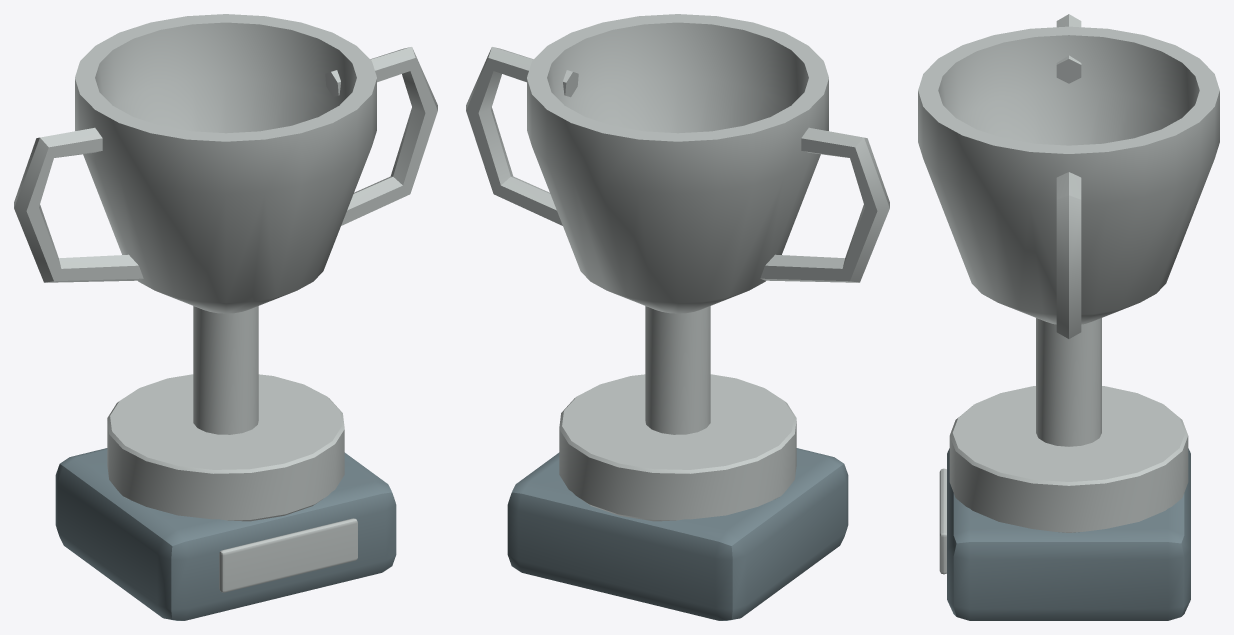
File: trophy.glb
The picture shows the model from 3 angles, left to right: view 1: azimuth 30°, elevation 25°; view 2: azimuth 150°, elevation 25°; view 3: azimuth 270°, elevation 25°; orthographic projection.
Visible parts, largest first — view 1: cup, plinth, base, stem, trophy_handle, award_plaque, trophy_handle.001; view 2: cup, plinth, base, stem, trophy_handle, trophy_handle.001; view 3: cup, base, plinth, stem, trophy_handle.001, award_plaque, trophy_handle.
Part boxes in pixels (bbox=[...]): cup: bbox=[75, 14, 376, 313]; plinth: bbox=[55, 448, 396, 620]; base: bbox=[107, 374, 344, 521]; stem: bbox=[193, 306, 258, 434]; trophy_handle: bbox=[14, 127, 143, 282]; award_plaque: bbox=[219, 518, 357, 592]; trophy_handle.001: bbox=[325, 47, 437, 225]; cup: bbox=[527, 14, 828, 313]; plinth: bbox=[507, 448, 848, 620]; base: bbox=[559, 374, 796, 521]; stem: bbox=[645, 306, 710, 434]; trophy_handle: bbox=[760, 127, 889, 282]; trophy_handle.001: bbox=[466, 47, 578, 225]; cup: bbox=[918, 26, 1219, 324]; base: bbox=[949, 386, 1188, 532]; plinth: bbox=[947, 448, 1190, 620]; stem: bbox=[1036, 318, 1101, 446]; trophy_handle.001: bbox=[1056, 172, 1081, 338]; award_plaque: bbox=[939, 468, 946, 574]; trophy_handle: bbox=[1056, 14, 1081, 83].
Size of the model in its own units: 0.34 by 0.37 by 0.21.
